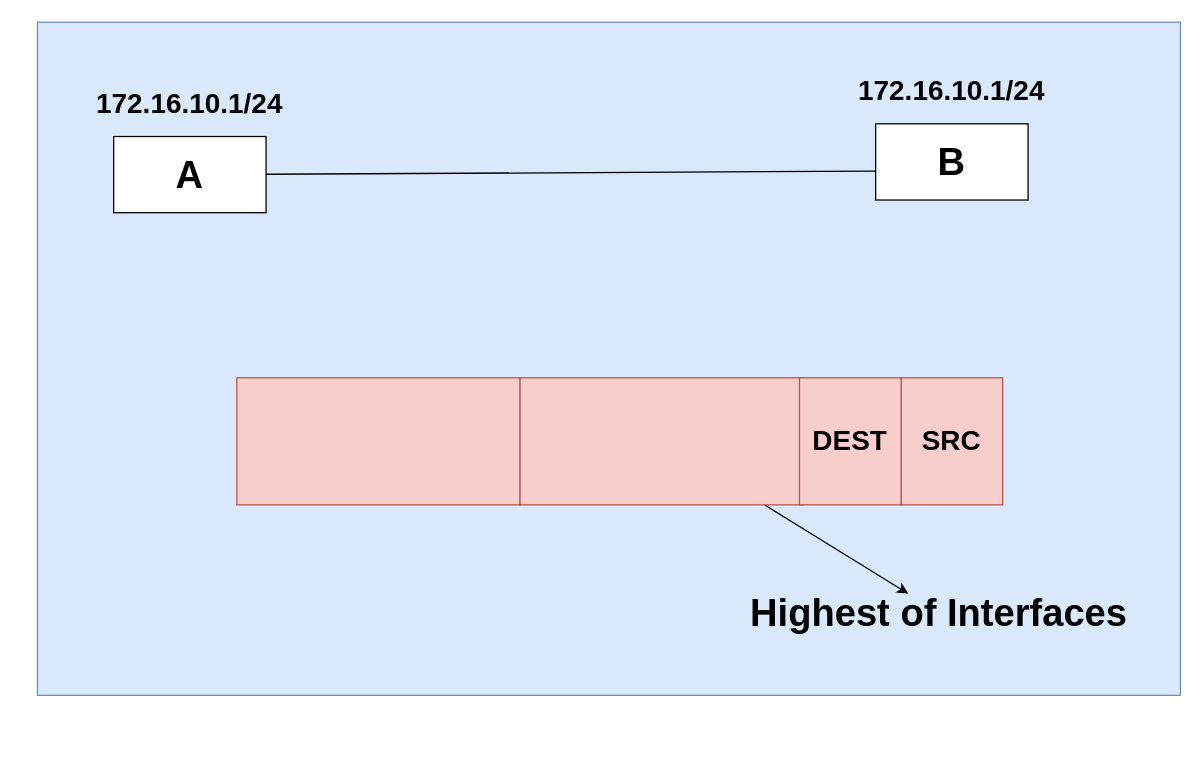
Some shapes in this 1204 by 779 pixel diagram are drawn without their labels. Here are the shapes that lost their labels. From the top down, the centre of each, then its label:
At [378,441]: "Neighbor ID".
At [661,441]: "Router-ID".
